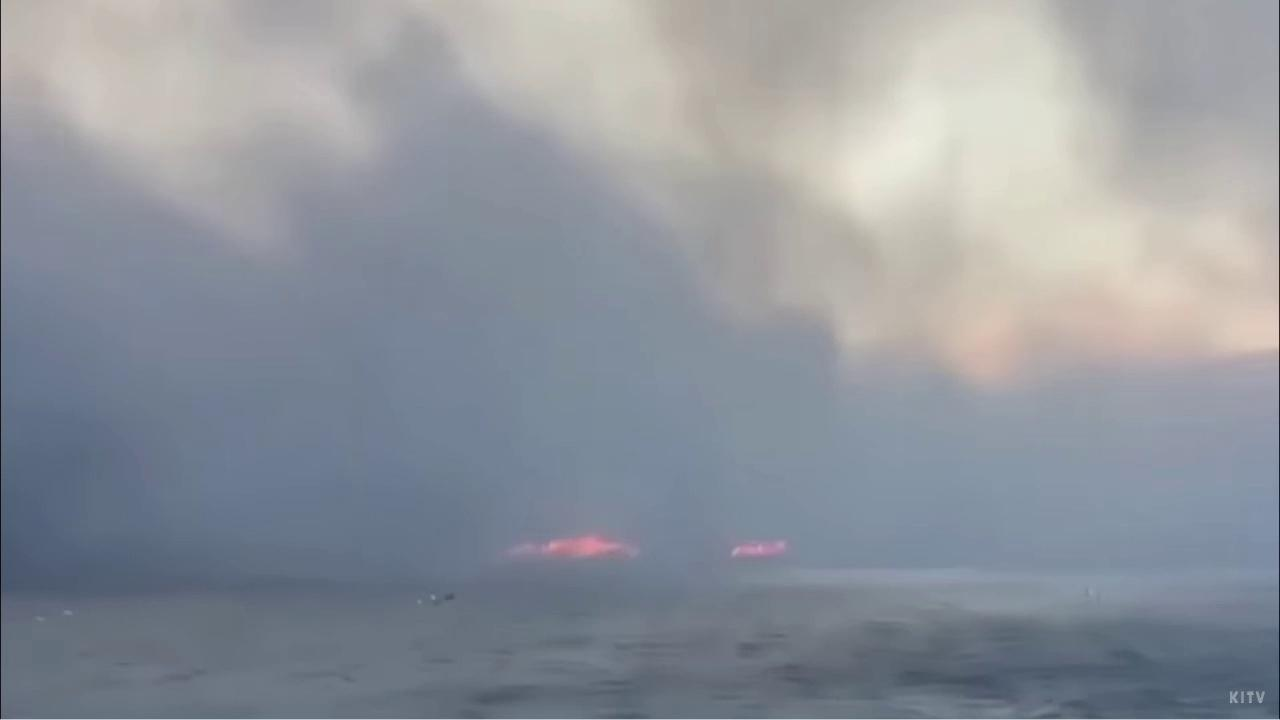fire: (487, 532, 644, 564), (727, 539, 790, 563)
smoke: (0, 0, 1280, 584)
